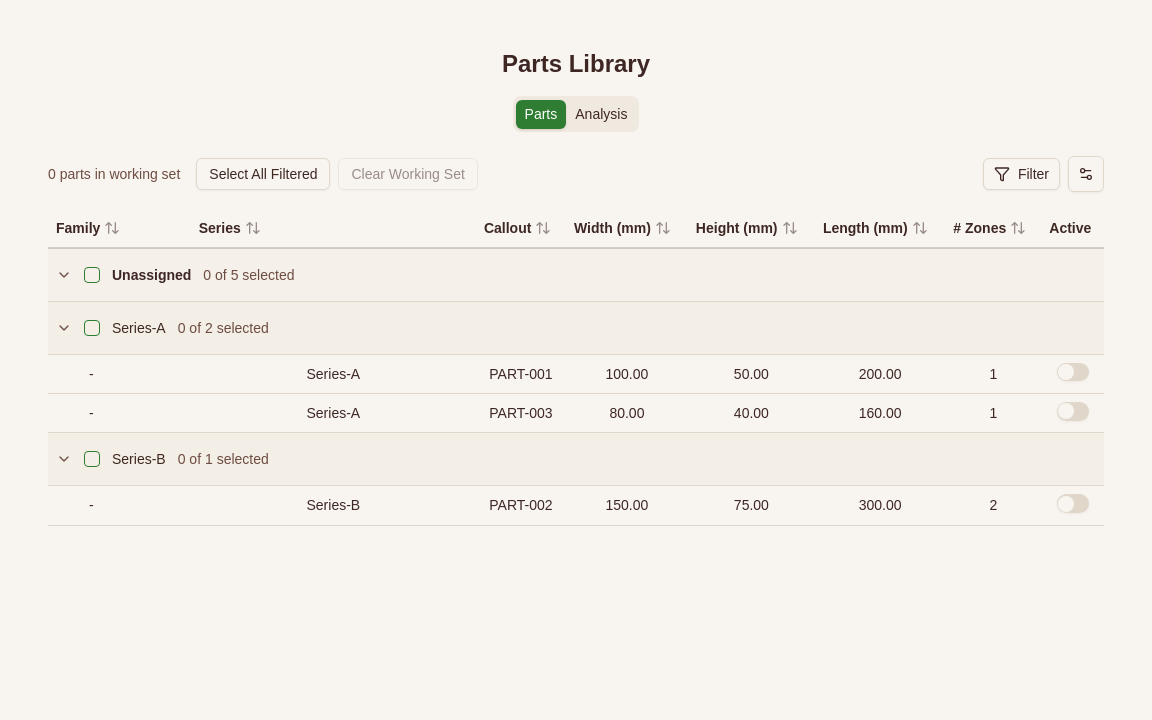
Parts Library Page › AC-2.7.4: Row Click Opens Detail Side Panel › updates panel content when clicking different row
This screenshot has width=1152, height=720.
Note: Click first part
Click the text "PART-001".
click(521, 374)  # box 476,354 -> 566,394
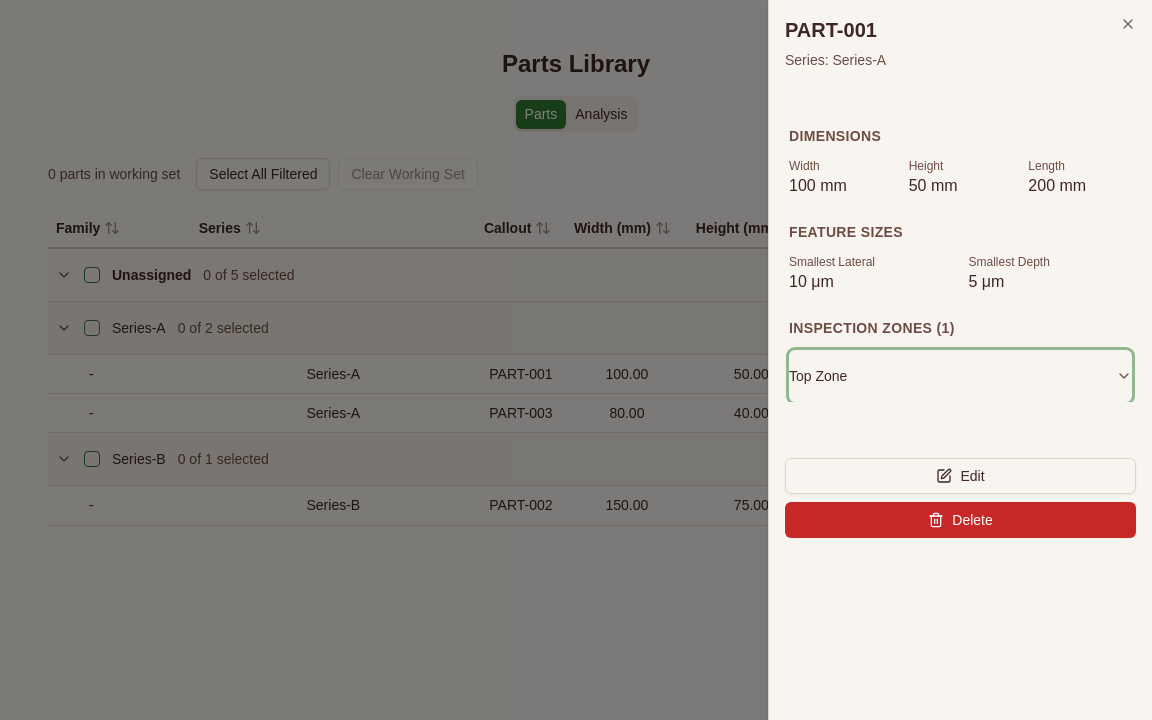
Check: the text "Series: Series-A" is shown, box 785,52 -> 886,68
Note: Close the panel first (user would click X or press Escape)
Press Escape
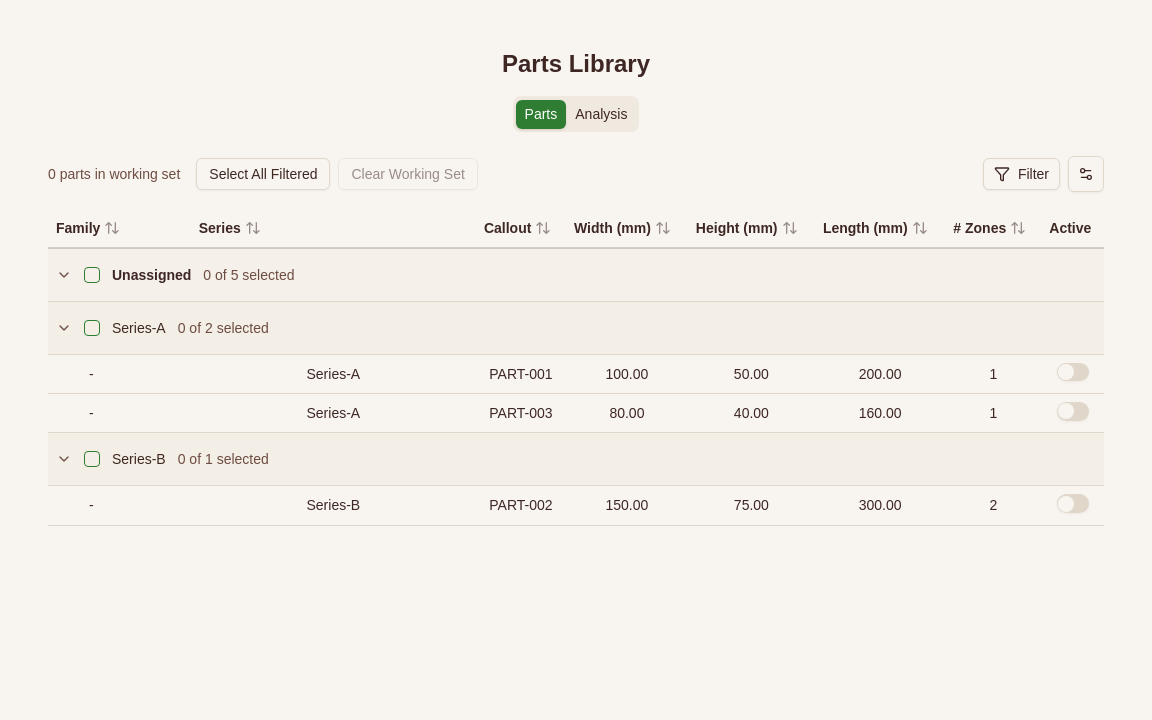
Check: the text "Series: Series-A" is gone
Note: Click second part
Click the text "PART-002".
click(521, 506)  # box 476,486 -> 566,525
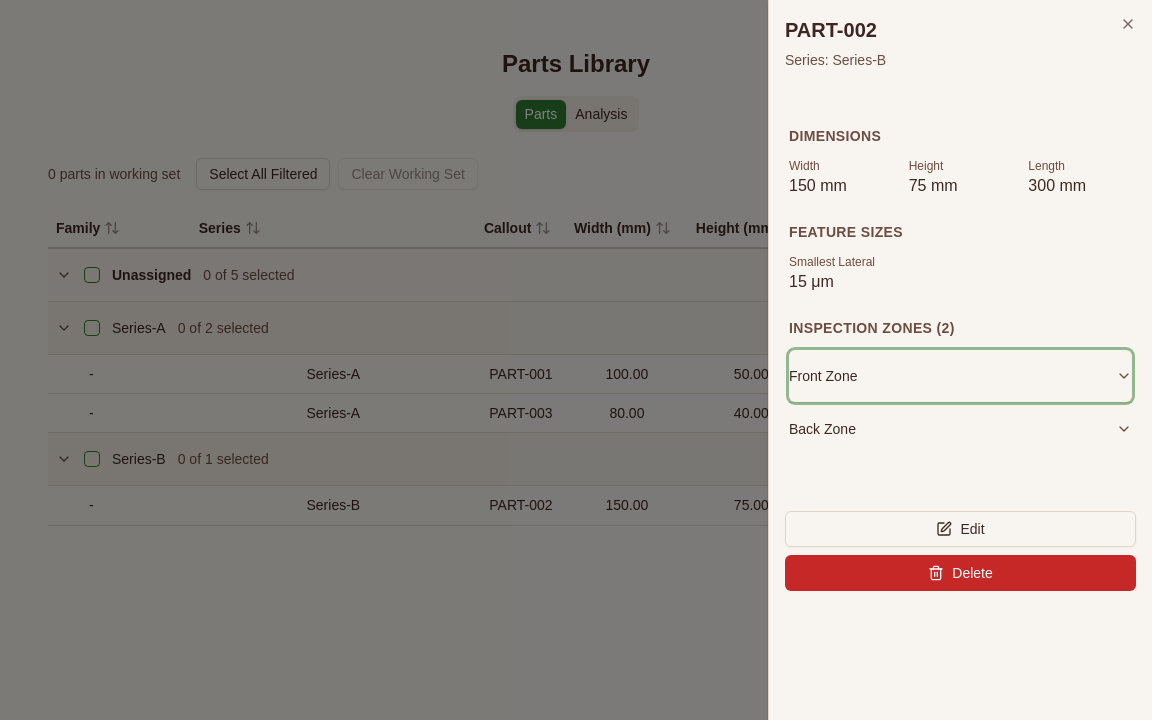
Check: the text "Series: Series-B" is shown, box 785,52 -> 886,68
